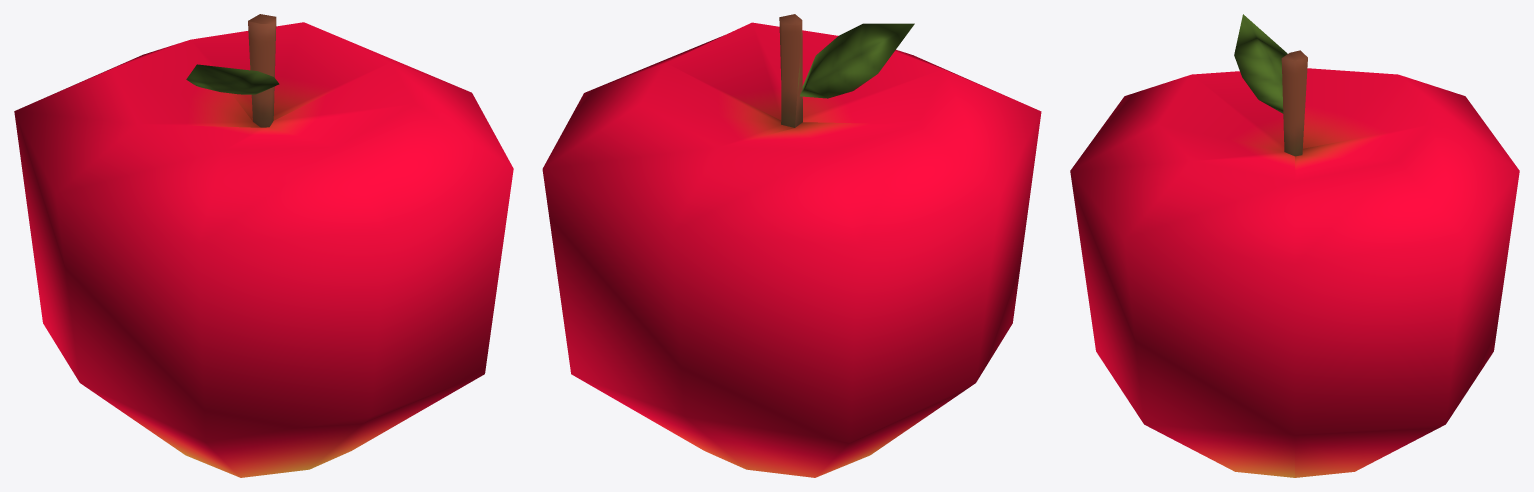
Rendered from Ringo.fbx.
3 renders of one model, left to right at view 1: azimuth 30°, elevation 25°; view 2: azimuth 150°, elevation 25°; view 3: azimuth 270°, elevation 25°, orthographic. The views are drawn at different scales.
Visible parts, largest first — view 1: ringo; view 2: ringo; view 3: ringo.
Part boxes in pixels (bbox=[...]): ringo: bbox=[14, 14, 513, 477]; ringo: bbox=[542, 14, 1041, 477]; ringo: bbox=[1070, 14, 1519, 477].
Bounding box in the file's own units: 102 × 98.55 × 103.
